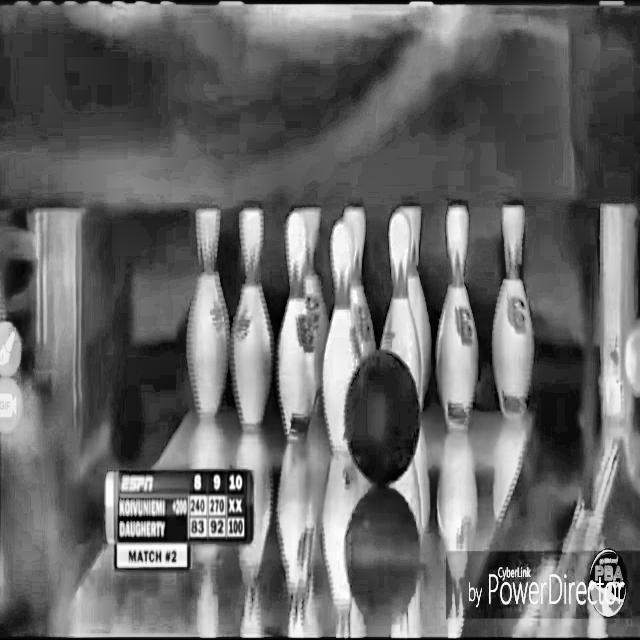bowling-ball: (346, 350, 421, 484)
bowling-pins: (230, 208, 274, 428), (437, 205, 478, 429), (276, 210, 316, 439), (187, 209, 228, 416), (494, 205, 534, 417), (322, 220, 358, 451), (381, 210, 422, 394), (400, 206, 432, 397), (298, 208, 328, 394), (344, 207, 376, 360)
